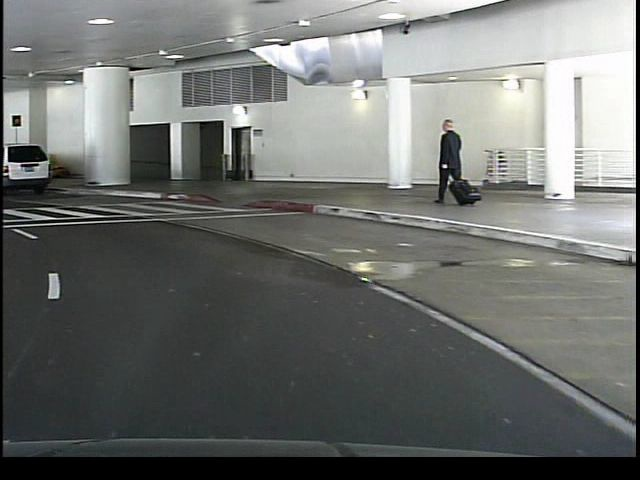person: (428, 114, 464, 207)
